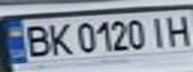0: (127, 16, 151, 51), (72, 19, 96, 54)
1: (93, 17, 112, 53)
2: (109, 17, 130, 52)
B: (18, 21, 54, 57)
H: (163, 11, 193, 47)
I: (145, 14, 172, 48)
K: (45, 20, 75, 56)
